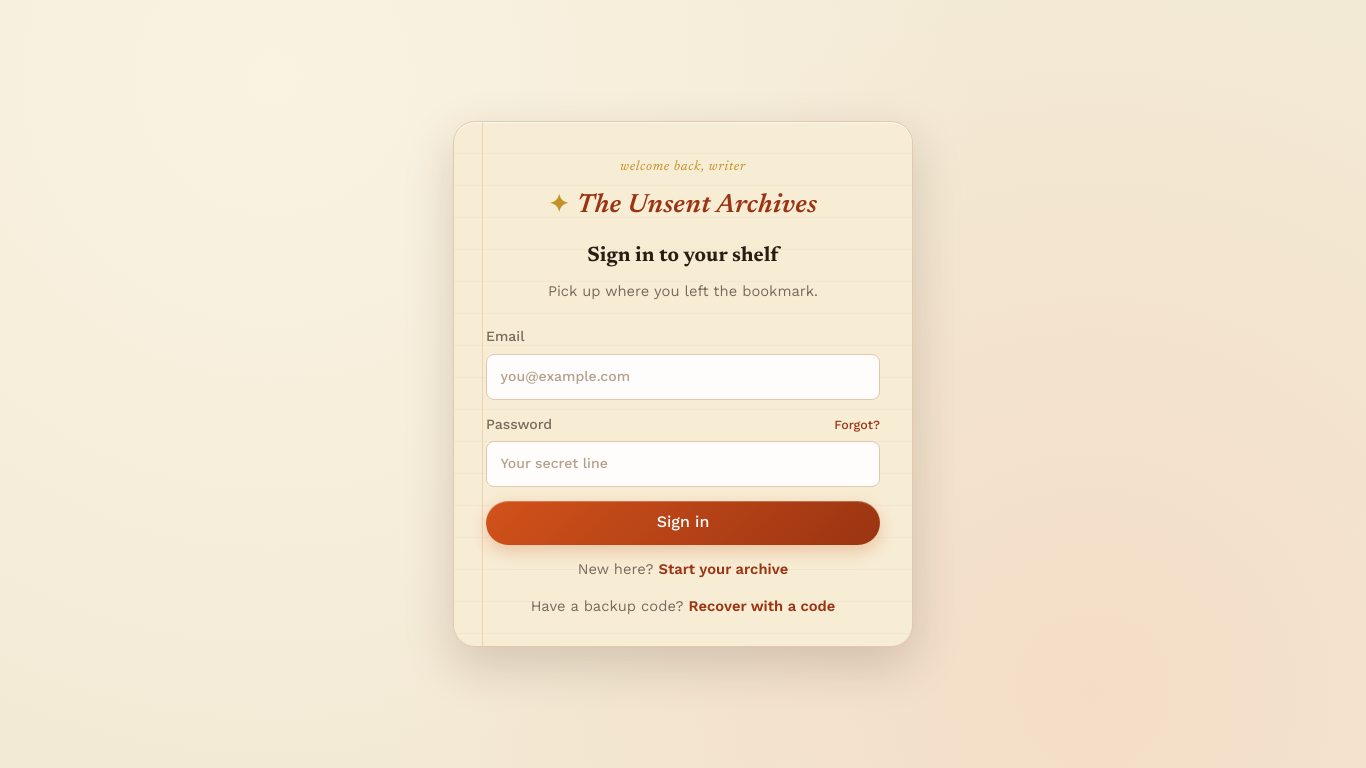
it: Login page › shows the API error message on failure and re-enables the button
Step 1. Type "me@example.com" into the field with placeholder "you@example.com" → (683, 377), box x1=486 y1=354 x2=880 y2=400
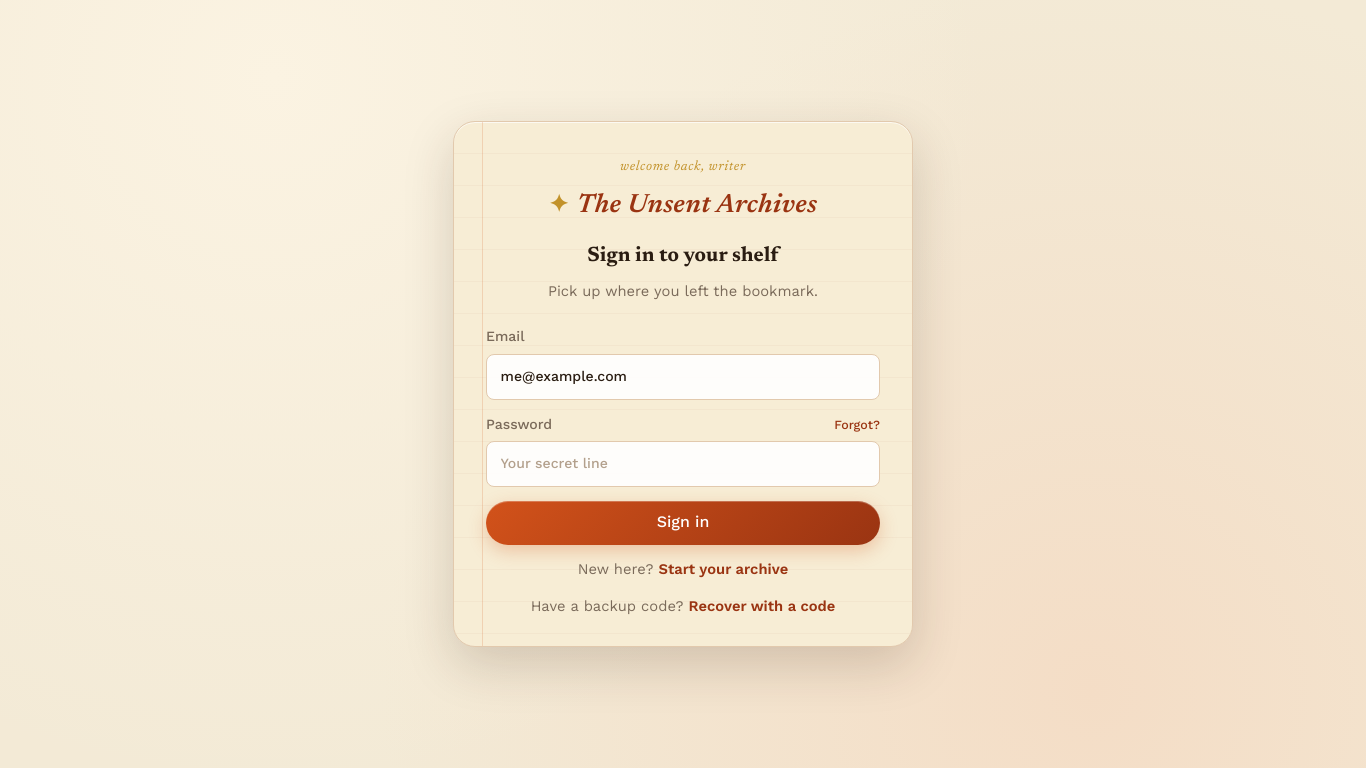
Step 2. Type "hunter22" into the password field with placeholder "Your secret line" → (683, 464), box x1=486 y1=441 x2=880 y2=487
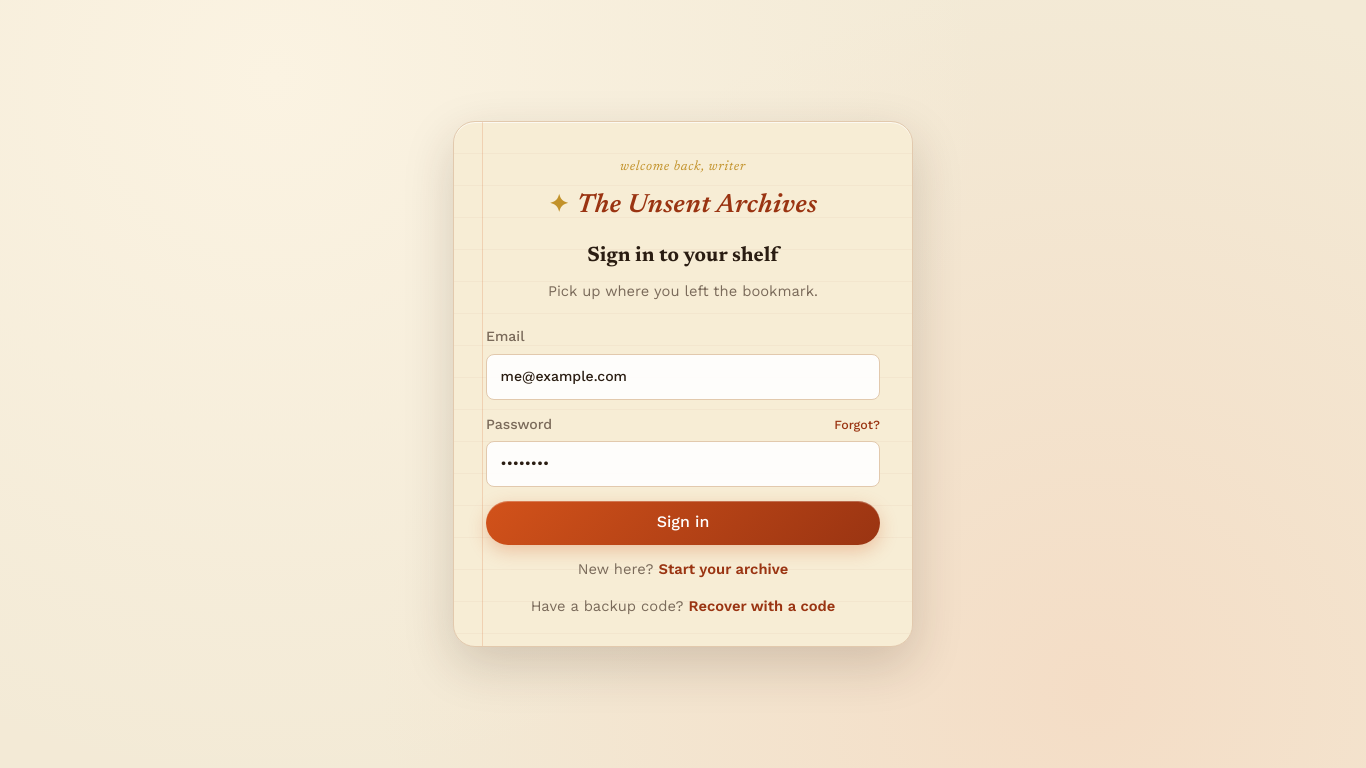
Step 3. Click the button "Sign in" → click(683, 523), box x1=486 y1=501 x2=880 y2=545
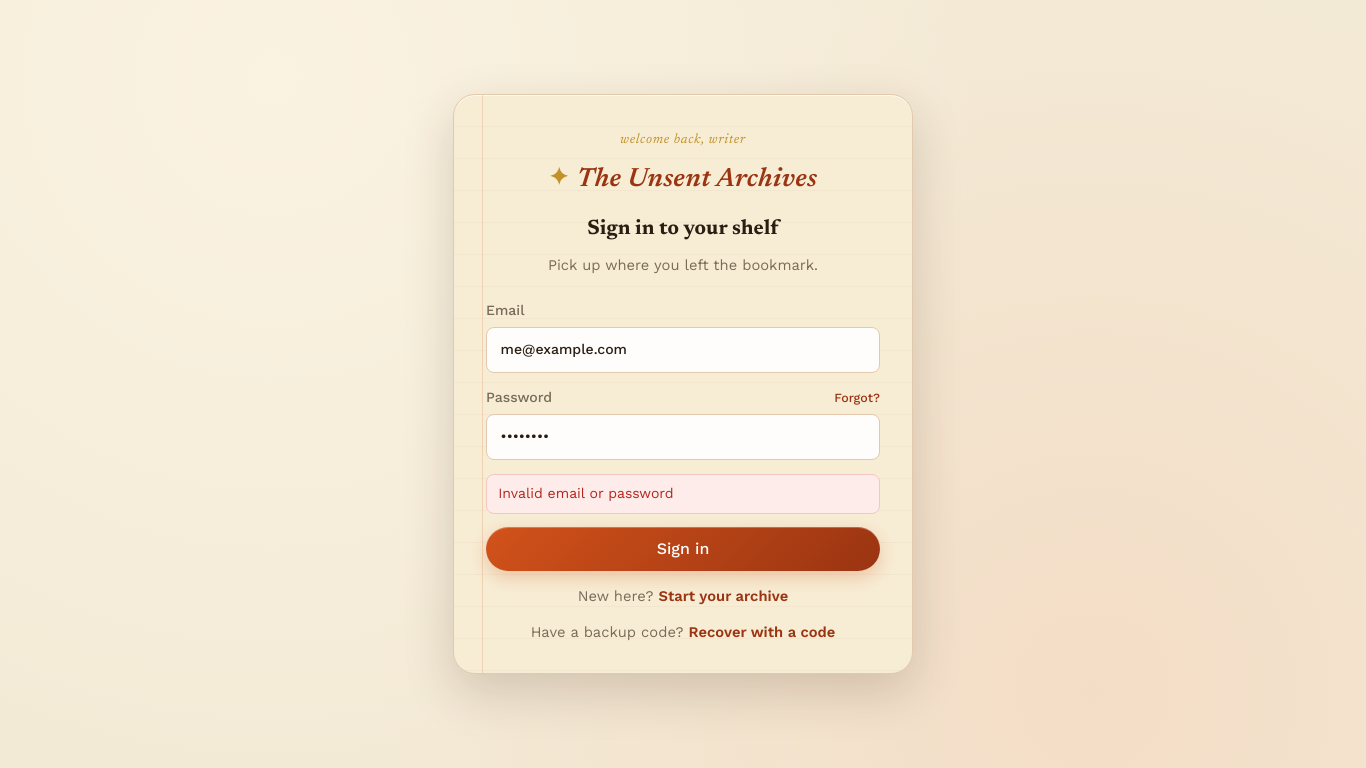
Expected: the button "Sign in" is enabled, x1=486 y1=528 x2=880 y2=572
Result: the text "Invalid email or password" is shown at x1=486 y1=474 x2=880 y2=514
